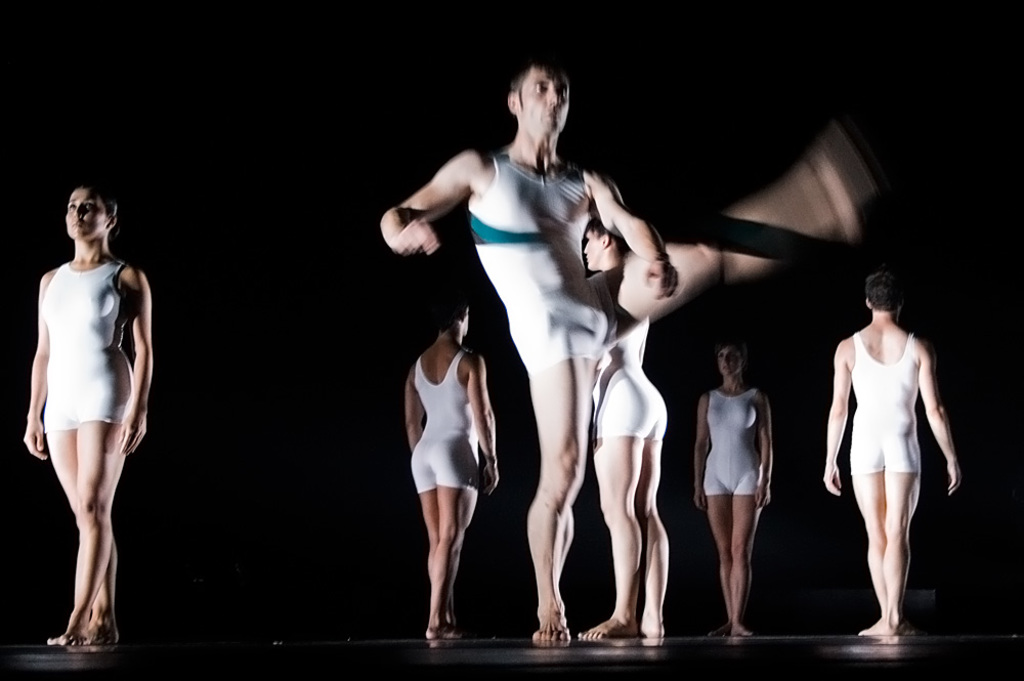Person: (21, 59, 960, 645)
